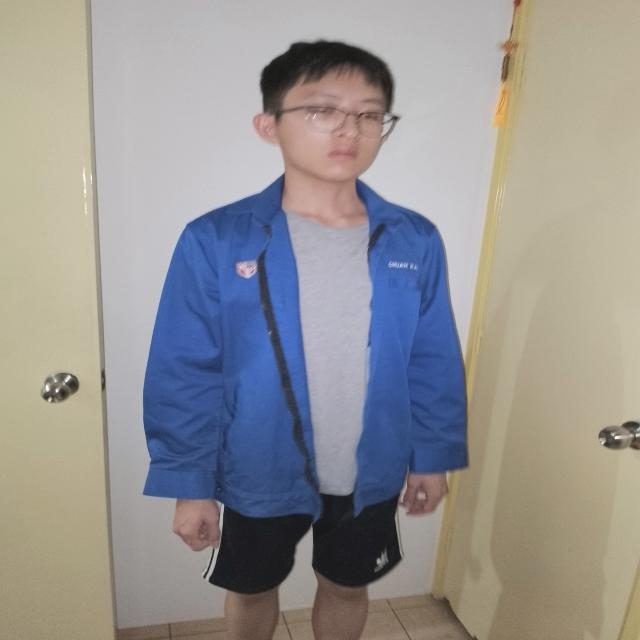person_with_labcoat: (144, 41, 466, 640)
